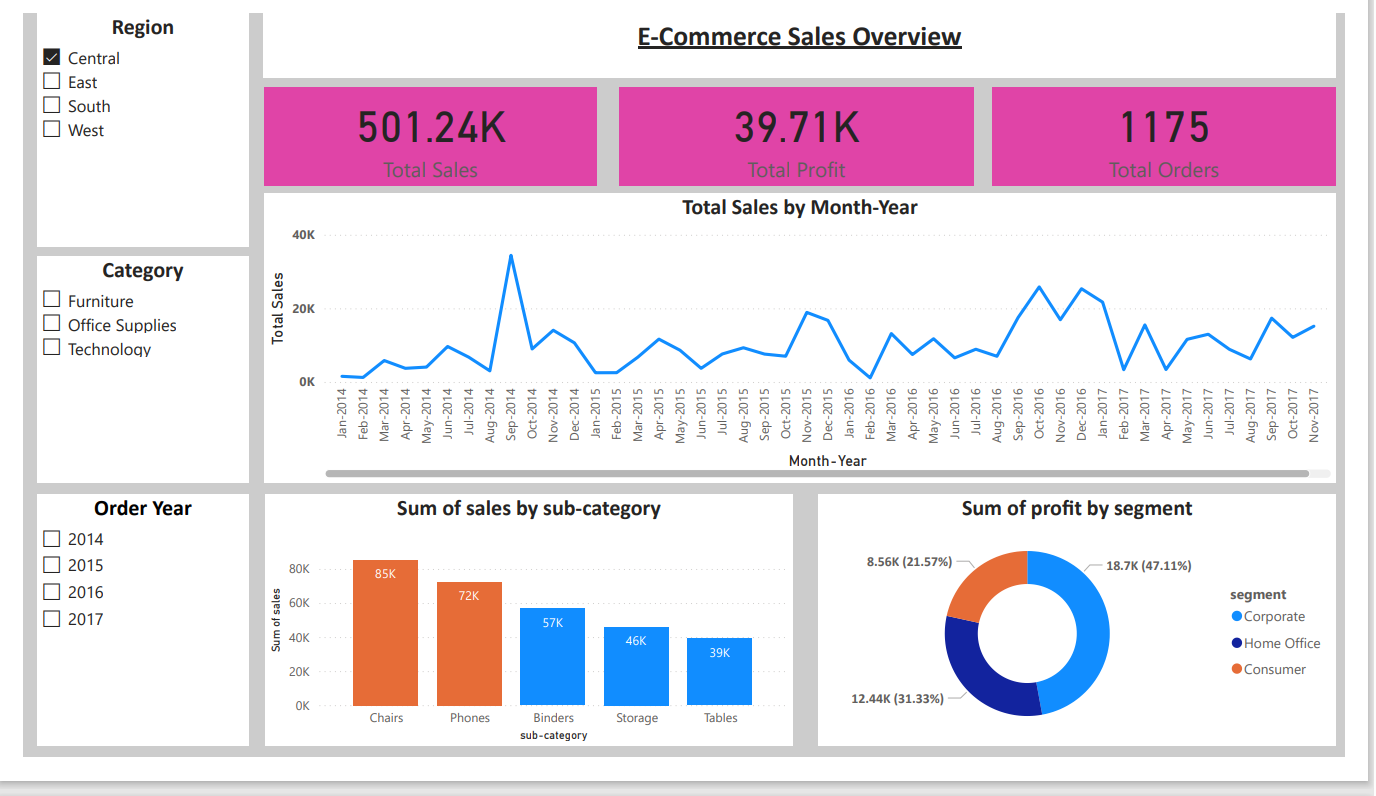

Layout of this report page (visuals, bound fields, positions):
{"tool":"powerbi","page":{"name":"Overview","canvas":[1280,720],"ordinal":0},"visuals":[{"type":"textbox","box":[233,0,1039,62],"z":0},{"type":"card","fields":{"Values":["superstore_cleaned.Total Profit"]},"box":[578,71,343,95],"z":1000},{"type":"card","fields":{"Values":["superstore_cleaned.Total Orders"]},"box":[939,71,333,95],"z":2000},{"type":"card","fields":{"Values":["superstore_cleaned.Total Sales"]},"box":[234,71,322,95],"z":3000},{"type":"lineChart","fields":{"Category":["superstore_cleaned.Month-Year"],"Y":["superstore_cleaned.Total Sales"]},"box":[234,174,1038,280],"z":4000},{"type":"clusteredColumnChart","fields":{"Y":["Sum(superstore_cleaned.sales)"],"Category":["superstore_cleaned.sub-category"]},"box":[235,465,511,244],"z":5000},{"type":"donutChart","fields":{"Category":["superstore_cleaned.segment"],"Y":["Sum(superstore_cleaned.profit)"]},"box":[771,465,501,244],"z":6000},{"type":"listSlicer","title":"Region","fields":{"Values":["superstore_cleaned.region"]},"box":[14,0,205,226],"z":7000},{"type":"listSlicer","title":"Category","fields":{"Values":["superstore_cleaned.category"]},"box":[14.1,234.6,205.1,219.2],"z":8000},{"type":"listSlicer","title":"Order Year","fields":{"Values":["superstore_cleaned.order_year"]},"box":[14,465,205,244],"z":9000}]}

Visuals, with their boxes in screenshot pixels (x1, y1, x2, y2), scaled from the page's 1280x720 canvas onto the 1376x796 screenshot:
textbox: [250,0,1367,69]
card - superstore_cleaned.Total Profit: [621,78,990,184]
card - superstore_cleaned.Total Orders: [1009,78,1367,184]
card - superstore_cleaned.Total Sales: [252,78,598,184]
lineChart - superstore_cleaned.Month-Year x superstore_cleaned.Total Sales: [252,192,1367,502]
clusteredColumnChart - Sum(superstore_cleaned.sales) x superstore_cleaned.sub-category: [253,514,802,784]
donutChart - superstore_cleaned.segment x Sum(superstore_cleaned.profit): [829,514,1367,784]
"Region" listSlicer: [15,0,235,250]
"Category" listSlicer: [15,259,236,502]
"Order Year" listSlicer: [15,514,235,784]
